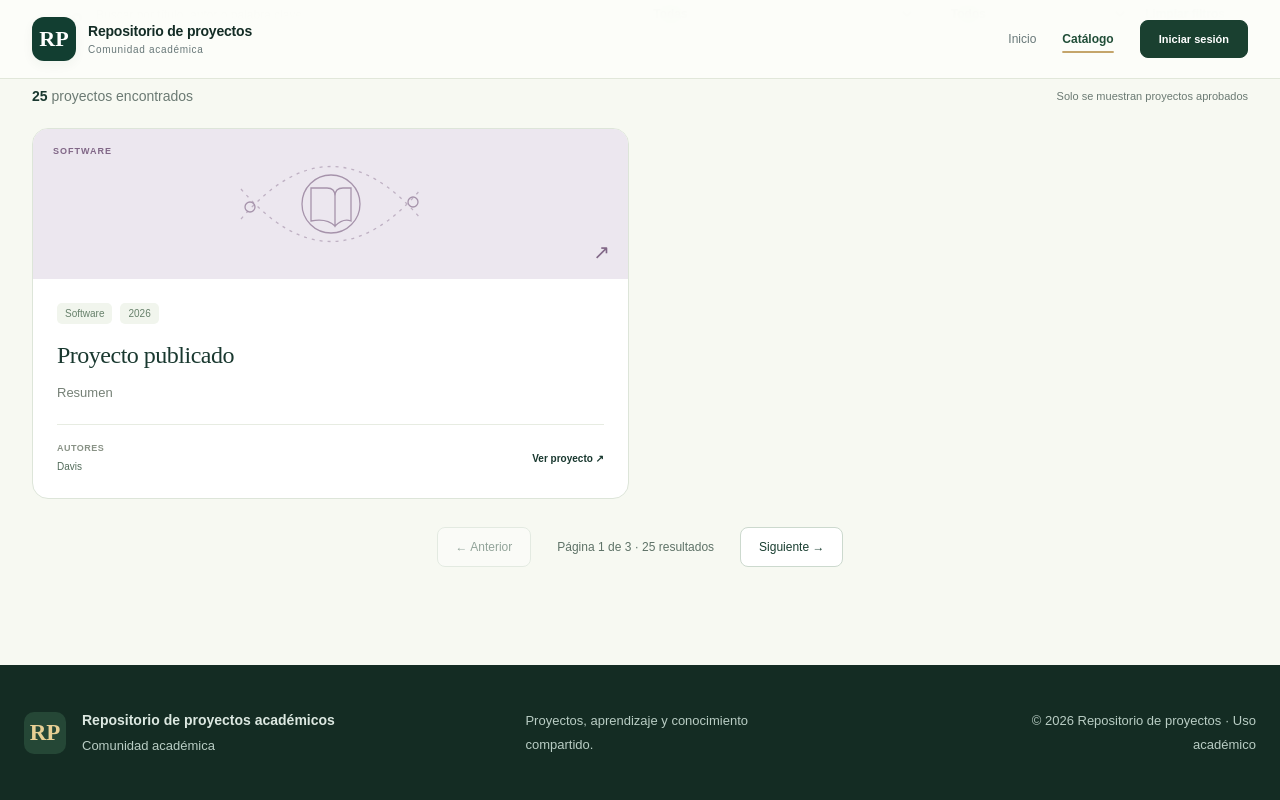
Test: Mejoras del repositorio › pide otra página al backend y muestra el total del servidor
(page scrolled)
Expected: the heading "Proyecto publicado" is shown, [57,342,234,368]
Expected: the text "Página 1 de 3 · 25 resultados" is shown, [557,540,714,554]
Click the button "Siguiente →" at (792, 547), box [740,527,844,567]
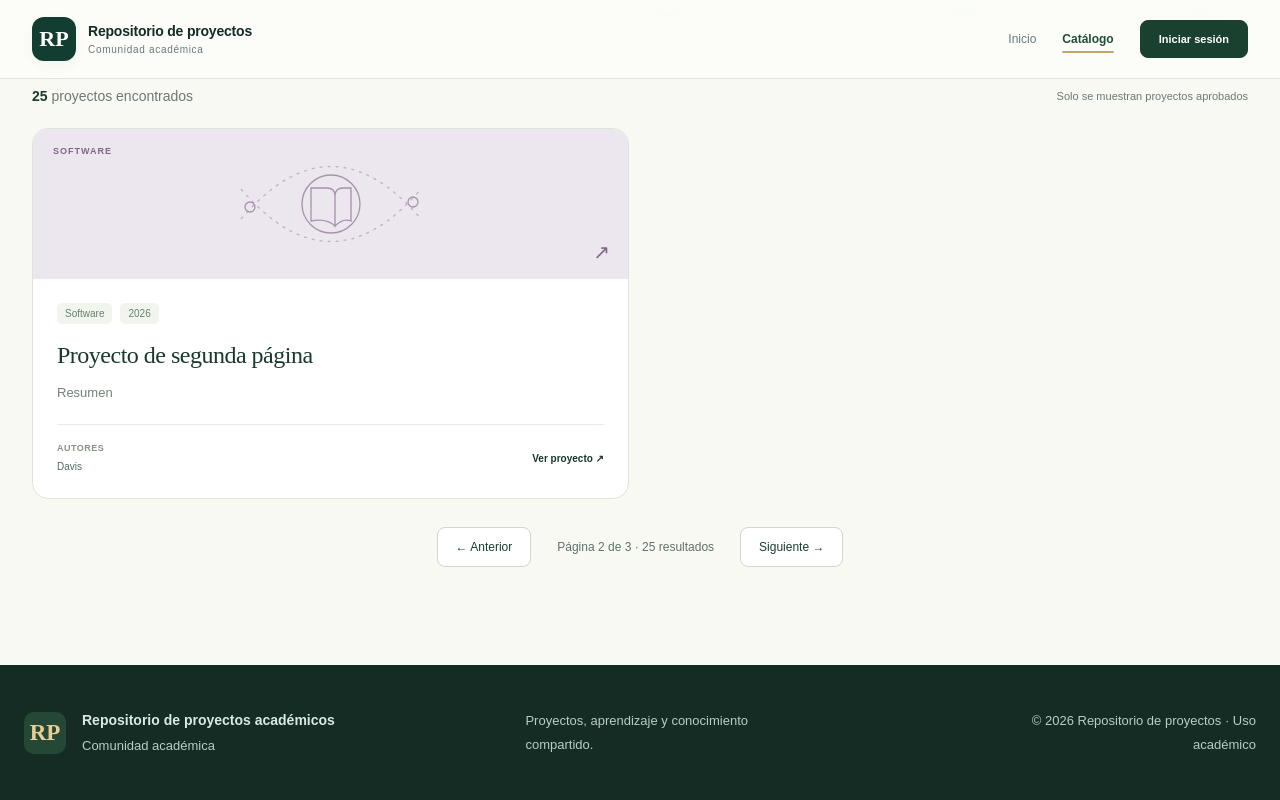
Now the heading "Proyecto de segunda página" is shown, box [57,342,313,368]
